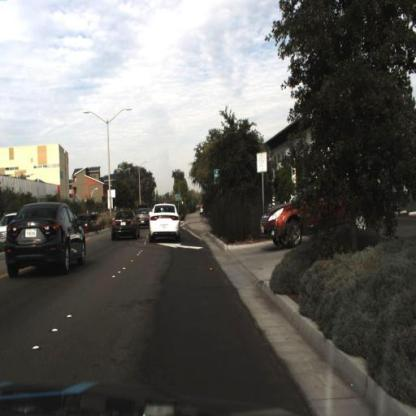car: (259, 174, 388, 251), (4, 200, 85, 281), (148, 201, 182, 244), (112, 208, 140, 246)
